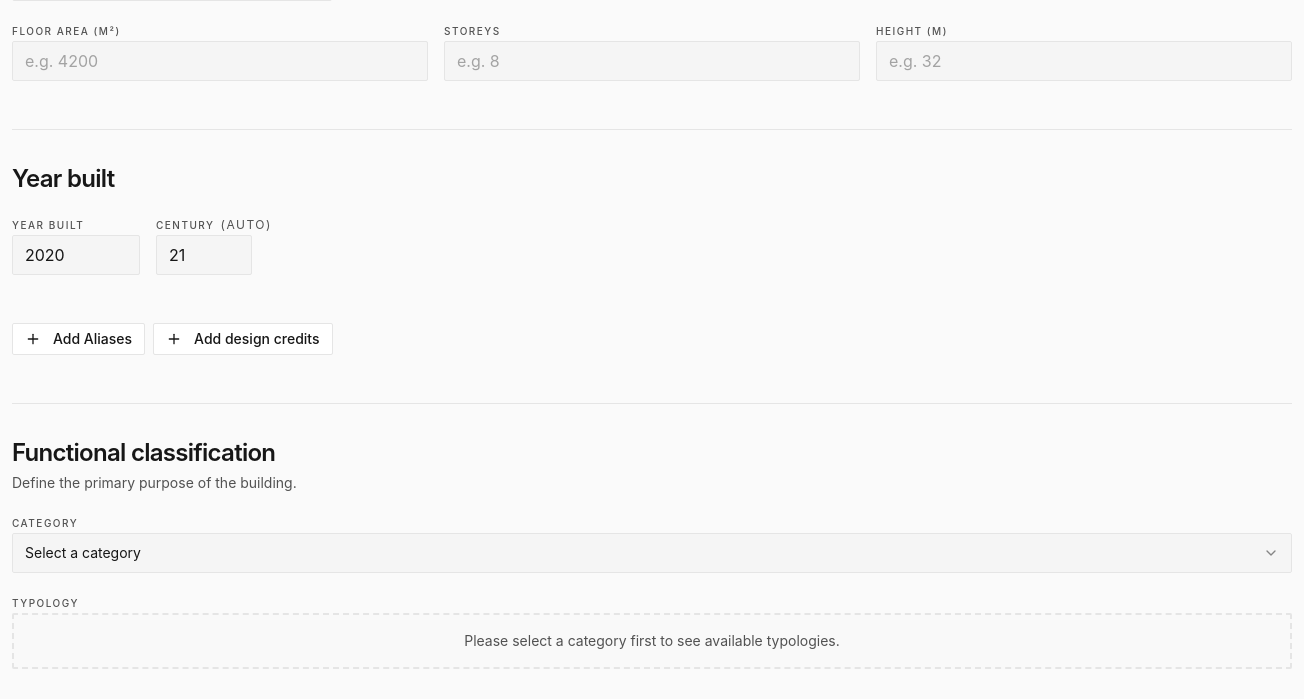
BuildingForm › shows alt_name and aliases when "Add Aliases" is clicked in edit mode
The image size is (1304, 699).
(page scrolled)
What coordinates should you click on to do the following:
click the button "Add Aliases"
I would click on:
 (79, 339)
Its box is [12,323,145,355].
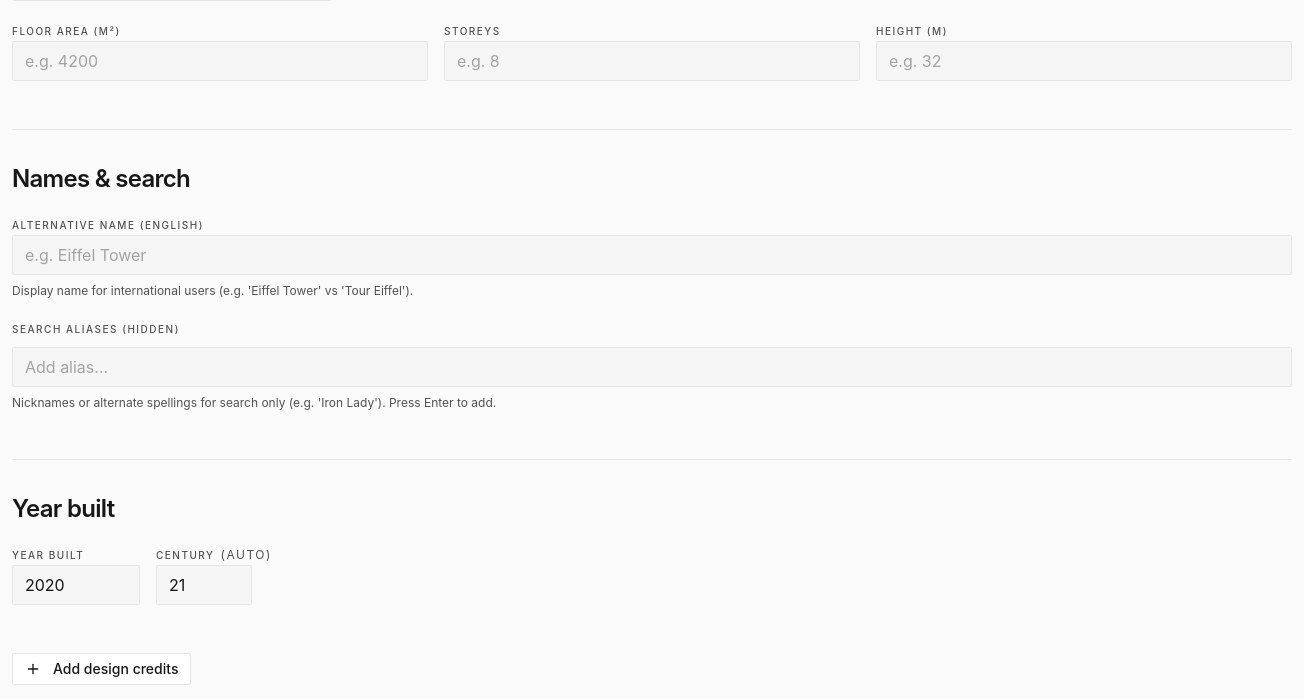
Check: the field labelled "Alternative name (English)" is shown, box [12,235,1292,275]
Check: the button "Add Aliases" is gone
